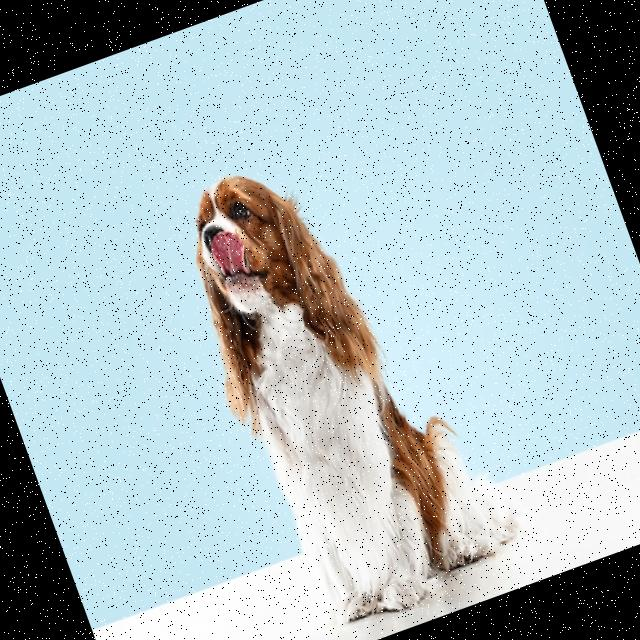Dog: (155, 124, 536, 640)
